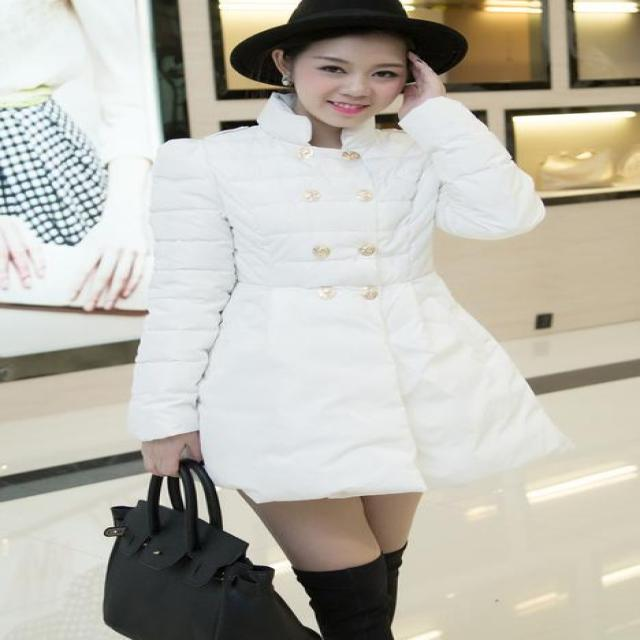long sleeve top: (137, 95, 566, 494)
